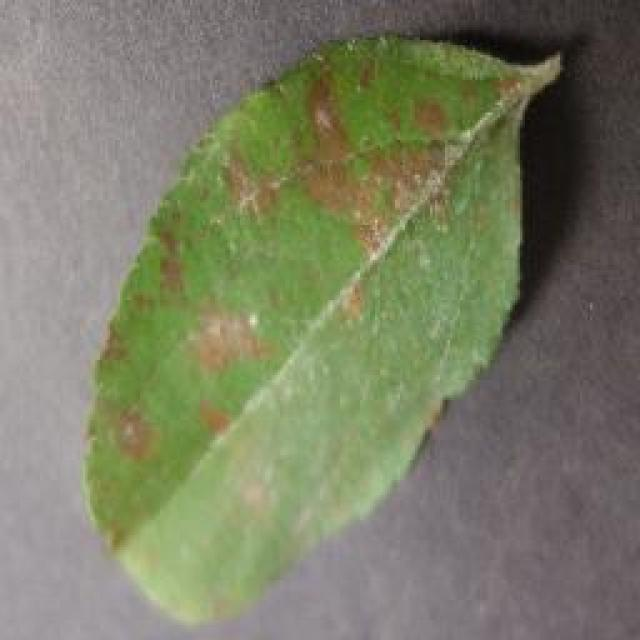apple scab disease: (80, 27, 565, 625)
